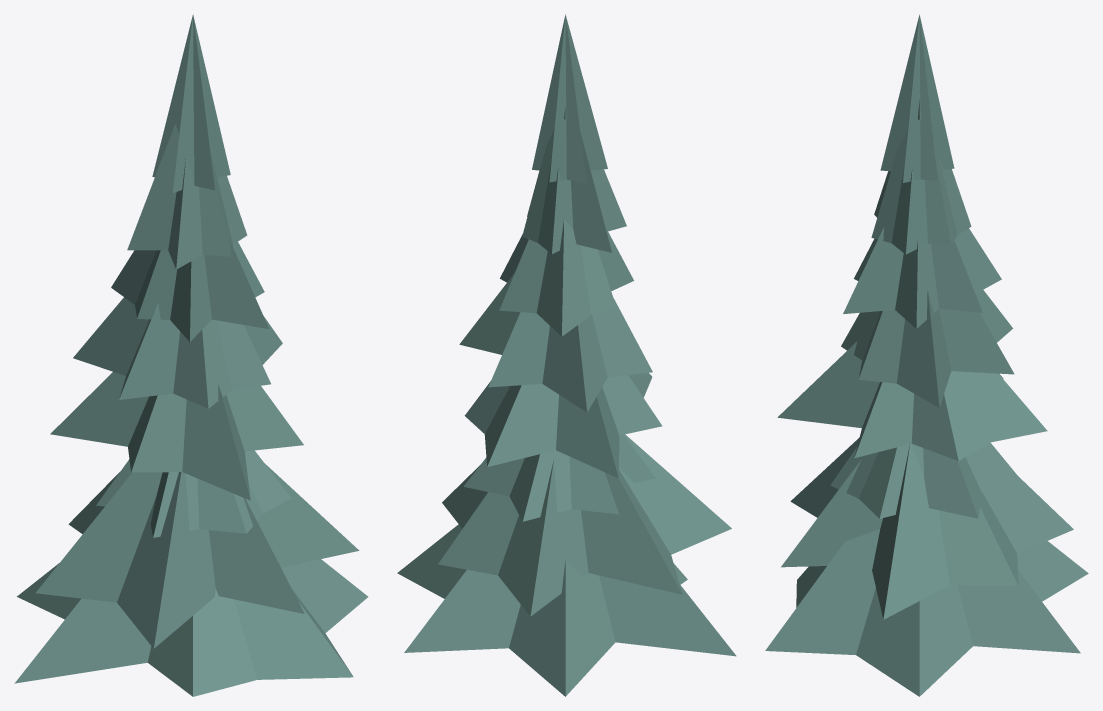
Rendered from dense-temperate-forest-flora-silver-fir-young-6ac03b27__28350.glb.
3 renders of one model, left to right at view 1: azimuth 30°, elevation 25°; view 2: azimuth 150°, elevation 25°; view 3: azimuth 270°, elevation 25°, orthographic. The views are drawn at different scales.
Visible parts, largest first — view 1: silver-fir-young; view 2: silver-fir-young; view 3: silver-fir-young.
Part boxes in pixels (bbox=[...]): silver-fir-young: bbox=[14, 14, 368, 696]; silver-fir-young: bbox=[397, 14, 736, 696]; silver-fir-young: bbox=[765, 14, 1088, 696].
Bounding box in the file's own units: 2.08 × 3.54 × 1.72.
